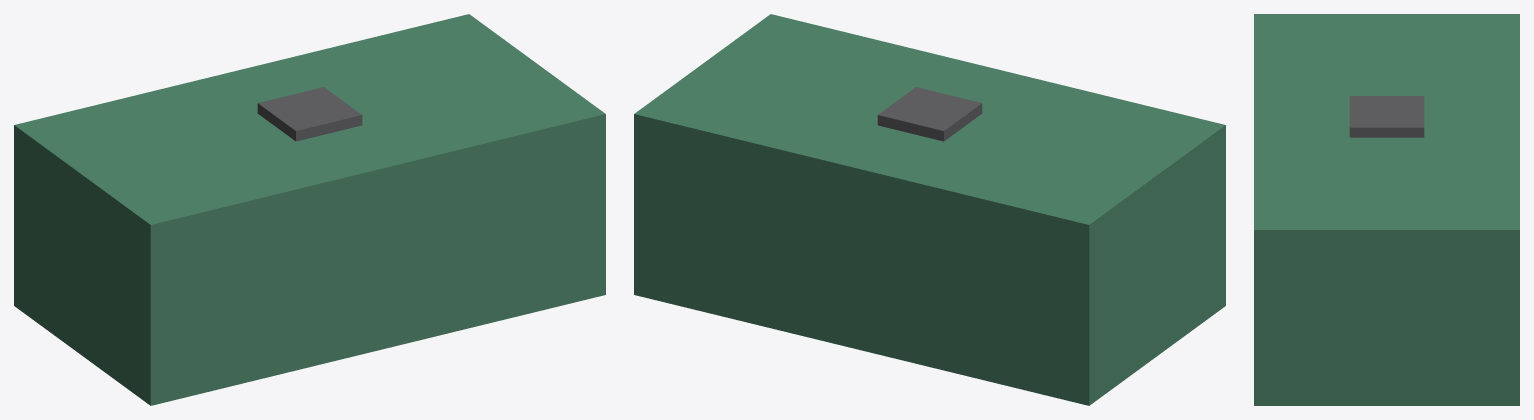
File: relay-1ch.glb
3 views of the same model, side by side, from view 1: azimuth 30°, elevation 25°; view 2: azimuth 150°, elevation 25°; view 3: azimuth 270°, elevation 25° (orthographic). The views are drawn at different scales.
Parts seen in each view (by area): view 1: relay-1ch-pcb, relay-1ch-ic; view 2: relay-1ch-pcb, relay-1ch-ic; view 3: relay-1ch-pcb, relay-1ch-ic.
Part boxes in pixels (x1,y1,x2,y2): relay-1ch-pcb: [14, 14, 605, 405]; relay-1ch-ic: [257, 87, 362, 141]; relay-1ch-pcb: [634, 14, 1225, 405]; relay-1ch-ic: [877, 87, 982, 141]; relay-1ch-pcb: [1254, 14, 1519, 405]; relay-1ch-ic: [1349, 96, 1424, 137].
Bounding box in the file's own units: 0.05 × 0.0201 × 0.026.
